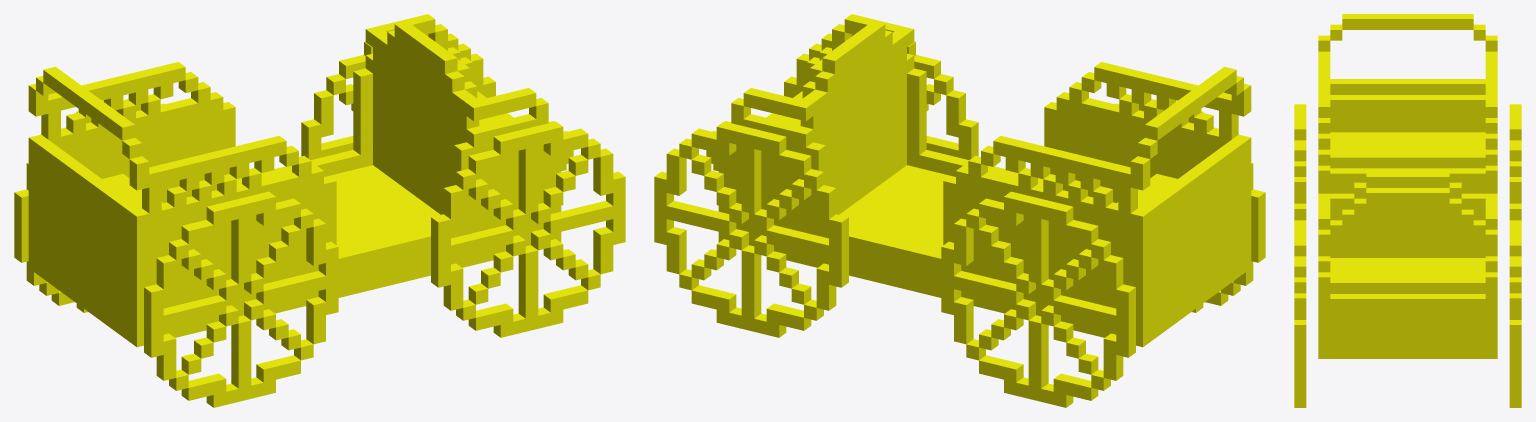
Rendered from voxel-palace-carriage.glb.
The picture shows the model from 3 angles, left to right: view 1: azimuth 30°, elevation 25°; view 2: azimuth 150°, elevation 25°; view 3: azimuth 270°, elevation 25°; orthographic projection. The views are drawn at different scales.
Visible parts, largest first — view 1: VS_Palace_Carriage; view 2: VS_Palace_Carriage; view 3: VS_Palace_Carriage.
Part boxes in pixels (box(x1,y1,x2,y2)): VS_Palace_Carriage: box(14, 14, 625, 407); VS_Palace_Carriage: box(654, 14, 1265, 407); VS_Palace_Carriage: box(1294, 14, 1521, 407).
Bounding box in the file's own units: 3.8 × 2.1 × 1.9.
